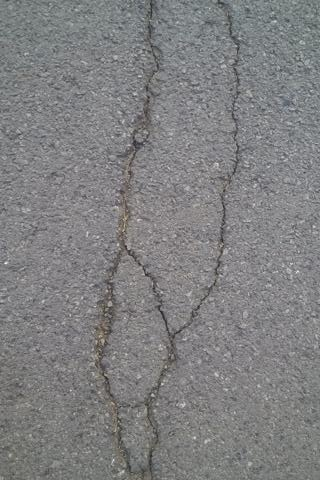A: (96, 2, 245, 478)
